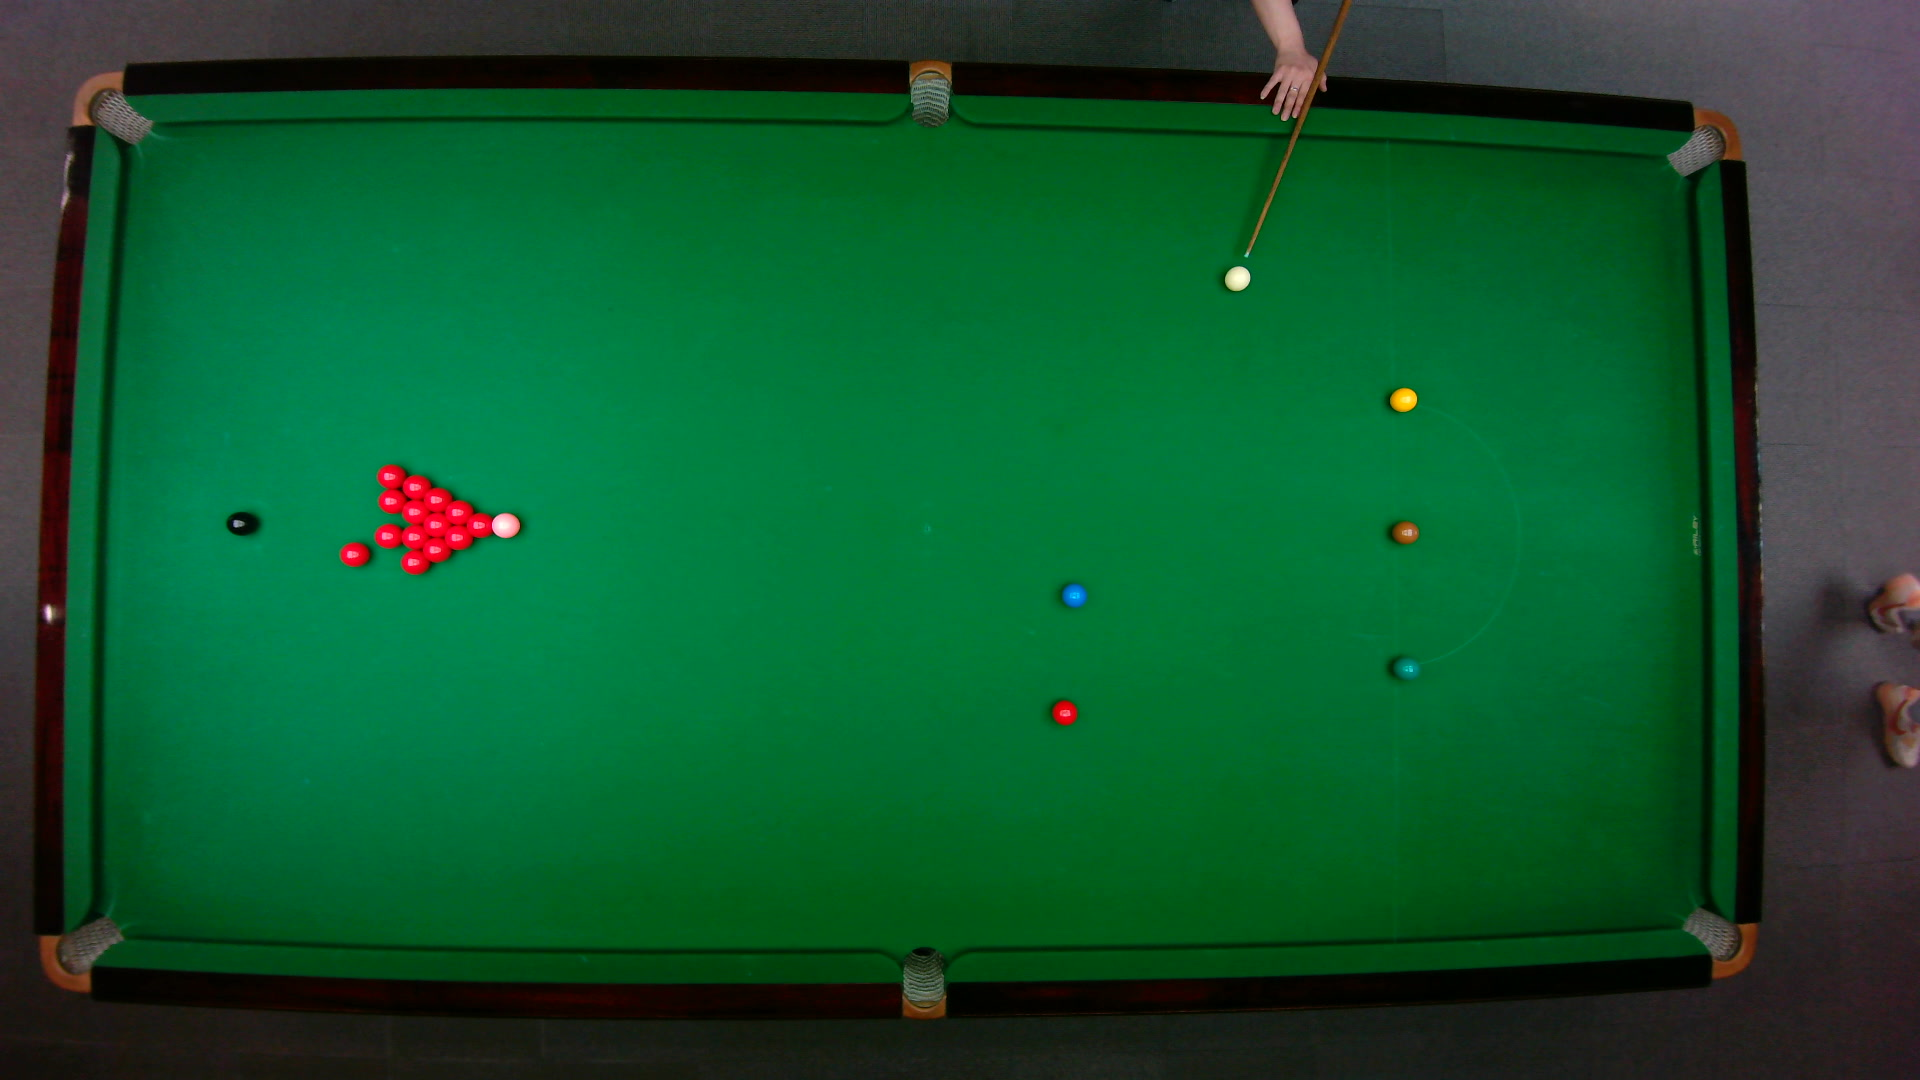bag: (37, 913, 125, 992), (69, 69, 152, 145), (1677, 905, 1756, 978), (1663, 107, 1742, 177), (901, 944, 944, 1021), (909, 57, 949, 128)
black: (224, 509, 257, 535)
blue: (1059, 582, 1087, 608)
brown: (1389, 520, 1419, 545)
cue: (1244, 1, 1349, 257)
green: (1390, 654, 1419, 680)
pink: (489, 510, 521, 539)
red: (421, 535, 454, 564), (338, 541, 372, 568), (375, 462, 409, 489), (400, 549, 431, 578), (373, 521, 405, 550), (398, 472, 431, 500), (375, 489, 409, 516), (443, 524, 473, 553), (422, 487, 455, 513), (467, 512, 495, 541), (400, 524, 430, 550), (443, 498, 473, 525), (422, 513, 454, 538), (1050, 698, 1077, 725), (401, 498, 431, 524)
white: (1221, 264, 1251, 291)
yellow: (1387, 385, 1418, 411)
zone: (1389, 401, 1519, 666)
